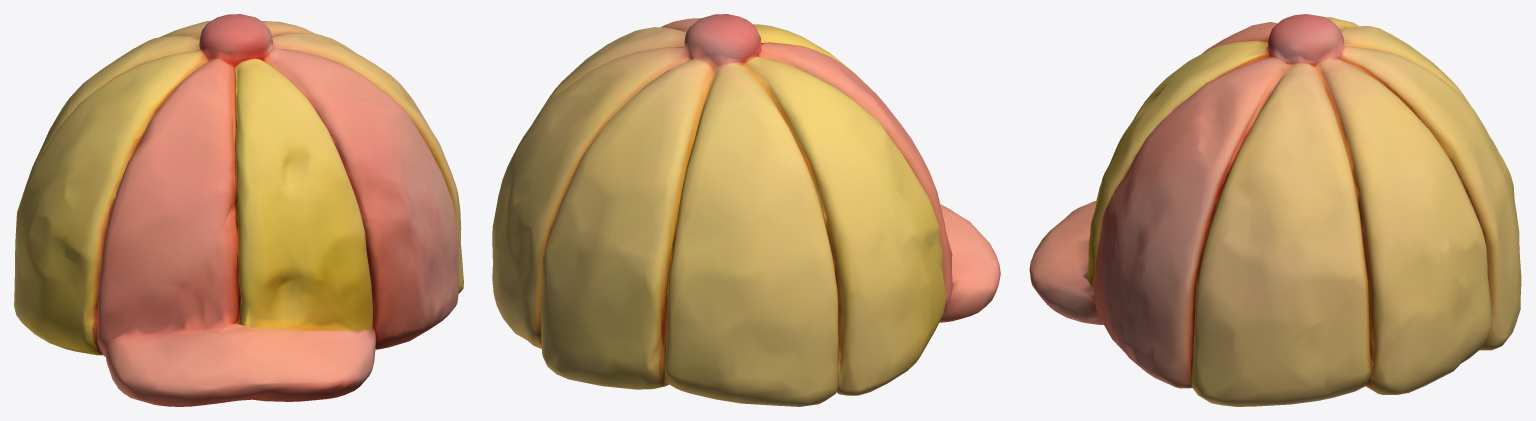
Rendered from aks-pervane1.glb.
3 views of the same model, side by side, from view 1: azimuth 30°, elevation 25°; view 2: azimuth 150°, elevation 25°; view 3: azimuth 270°, elevation 25° (orthographic). The views are drawn at different scales.
Parts seen in each view (by area): view 1: aks; view 2: aks; view 3: aks.
Boxes of the visible parts, x1=… form: aks: x1=14, y1=14, x2=463, y2=406; aks: x1=492, y1=14, x2=1000, y2=406; aks: x1=1029, y1=14, x2=1521, y2=406.
Bounding box in the file's own units: 0.9327 × 0.6566 × 0.9789.
Materials: 1 (1 with a texture image).
